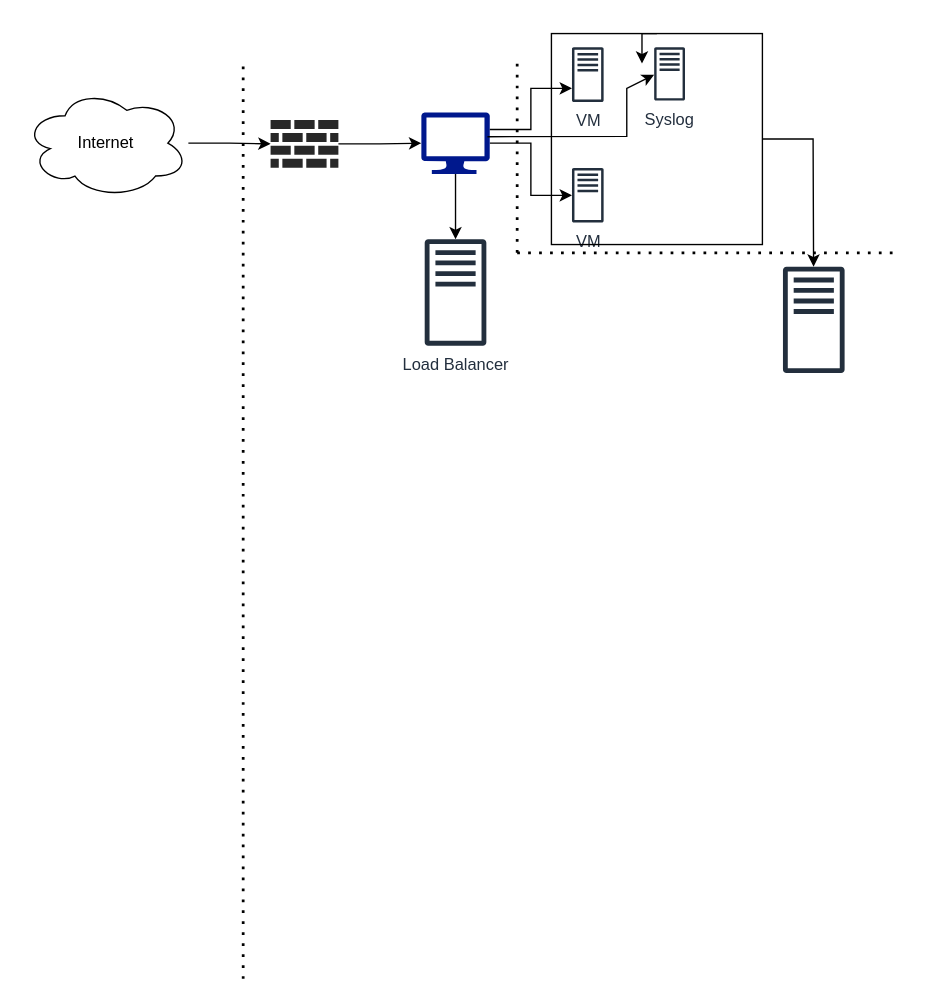
This 927x1006 diagram has some shape labels left out. The shapes that lost their labels are listed below. From the top down, each one's centre as x and y in pixels, then its label:
At pixel 304 143: "Security Group".
At pixel 455 142: "Jump Box".
At pixel 813 319: "ELK Site".
